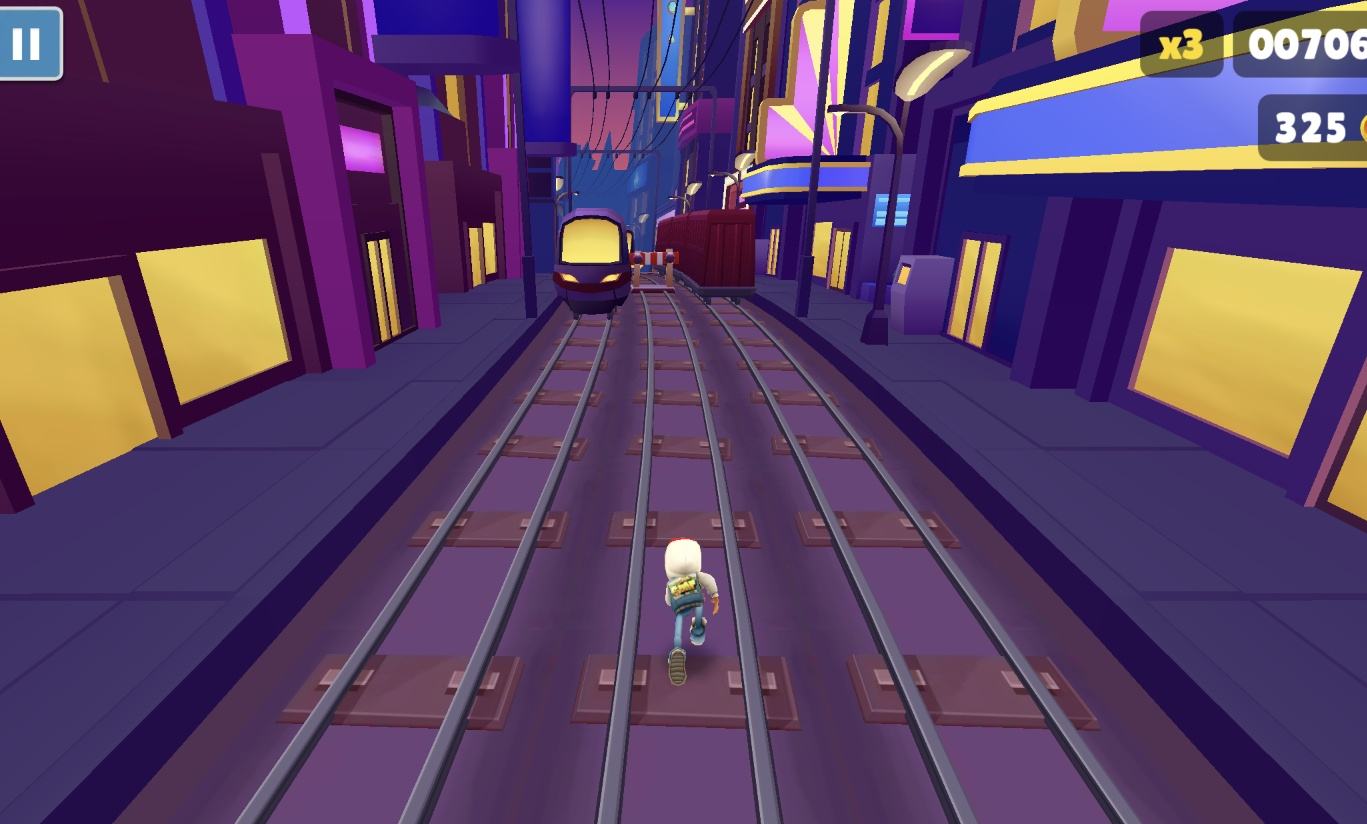ground_barrier: (629, 251, 678, 292)
train: (553, 207, 635, 320), (656, 209, 756, 299)
